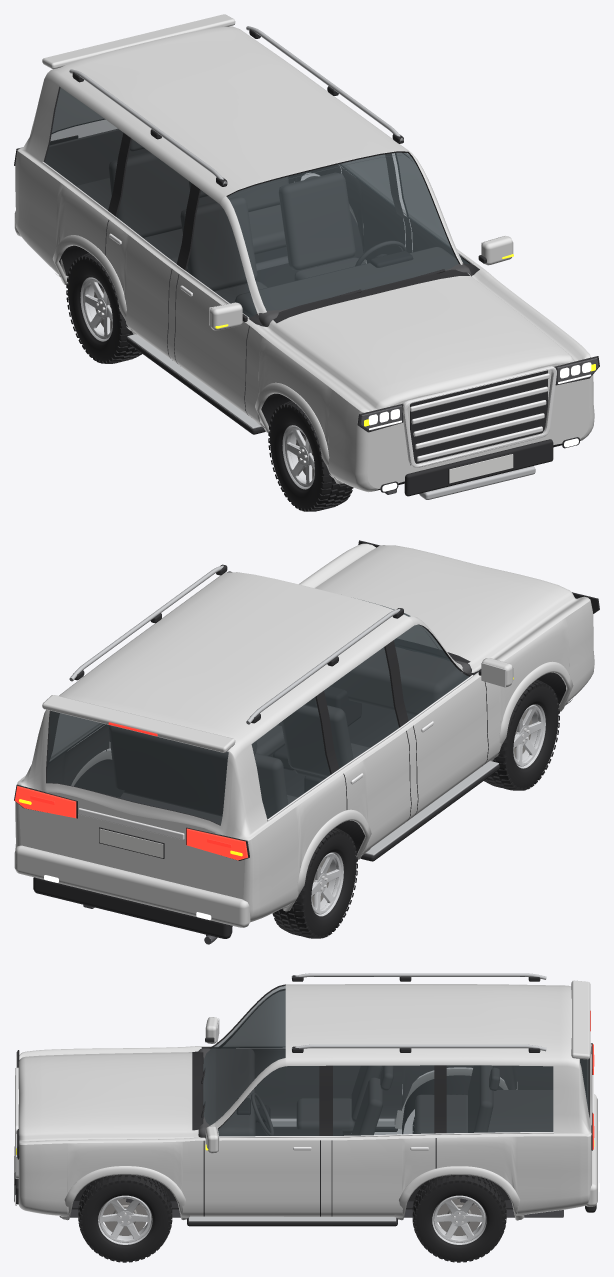
File: fjellrev.glb
3 views of the same model, one above another, from view 1: azimuth 30°, elevation 25°; view 2: azimuth 150°, elevation 25°; view 3: azimuth 270°, elevation 25° (orthographic). The views are drawn at different scales.
Parts seen in each view (by area): view 1: body, wheel_FR, wheel_RR; view 2: body, wheel_RR, wheel_FR; view 3: body, wheel_FL, wheel_RL, steering.
Part boxes in pixels (x1,y1,x2,y2): body: (14,14,599,499); wheel_FR: (268,400,353,511); wheel_RR: (66,253,141,363); body: (14,540,599,944); wheel_RR: (272,827,357,938); wheel_FR: (484,679,559,790); body: (14,973,599,1226); wheel_FL: (78,1174,172,1262); wheel_RL: (412,1175,506,1262); steering: (251,1093,274,1135).
Size of the model in its own units: 2.45 by 1.95 by 5.
